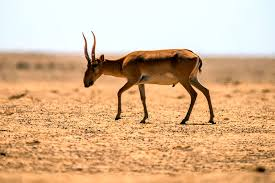saiga: (80, 30, 217, 126)
